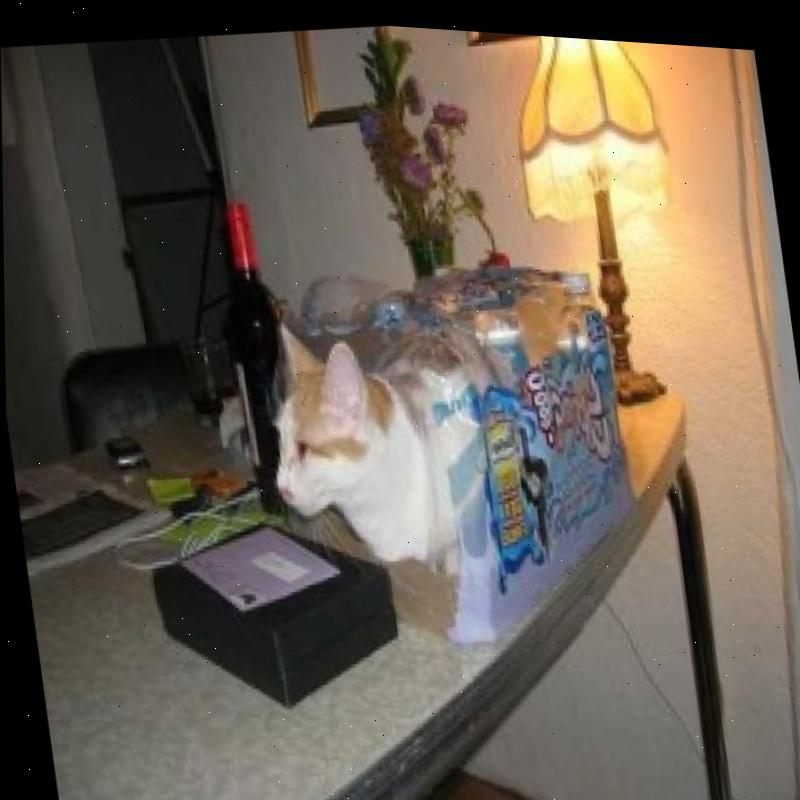botella: (555, 258, 603, 313)
